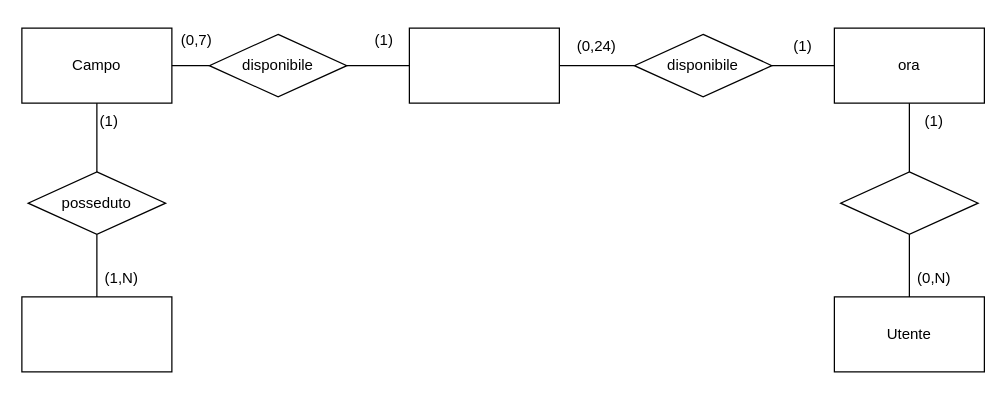
The diagram is 1006 pixels wide and 394 high, and some of its shapes have lost their labels. The shapes that lost their labels are listed below. From the top down, each one's centre as x and y in pixels, then its label:
At [483,65]: "giorno".
At [908,202]: "Prenotato".
At [96,334]: "Dirigente".
